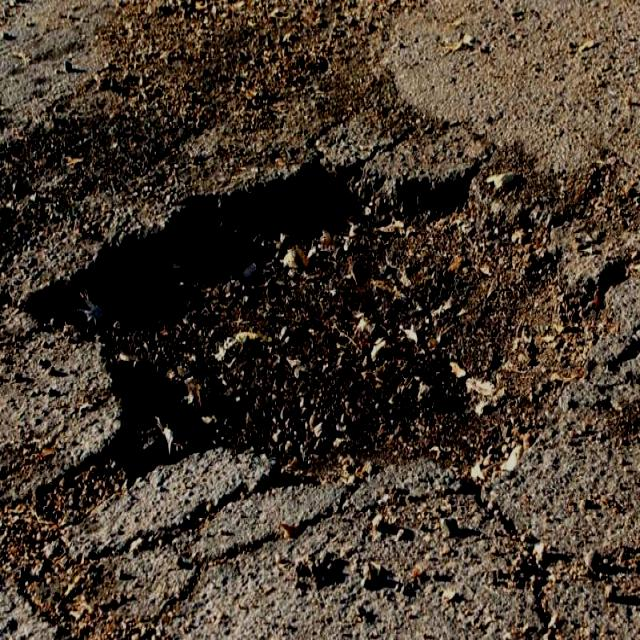Pothole: (10, 137, 528, 496)
